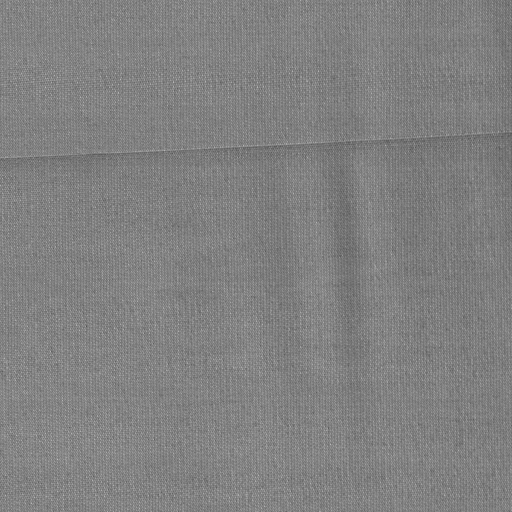defect: (3, 126, 512, 177)
